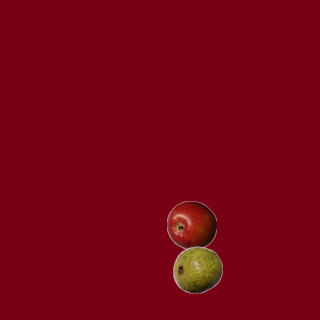Apple Braeburn: (166, 200, 216, 250)
Guava: (172, 244, 222, 294)
